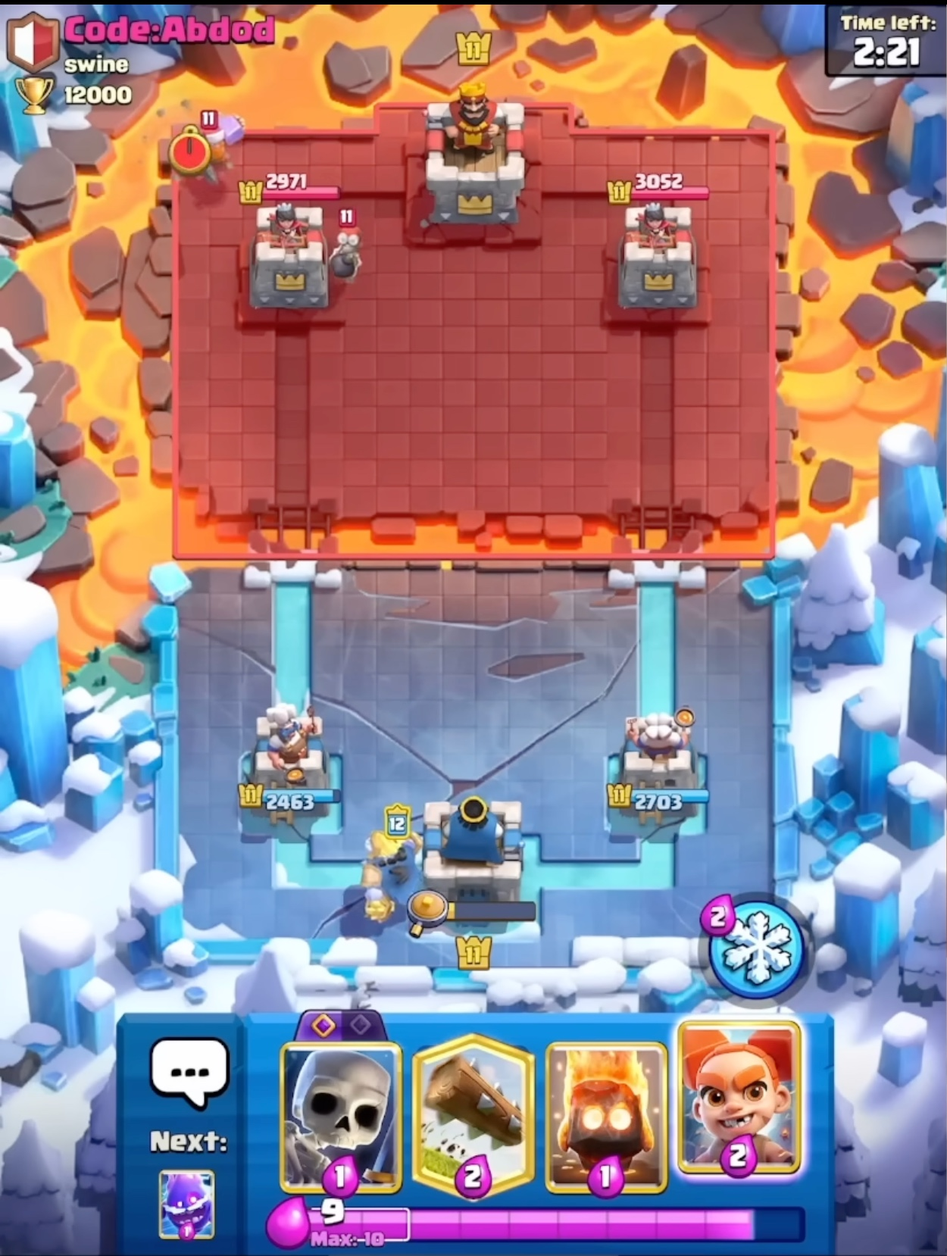hero-ice-golem: (351, 800, 438, 931)
